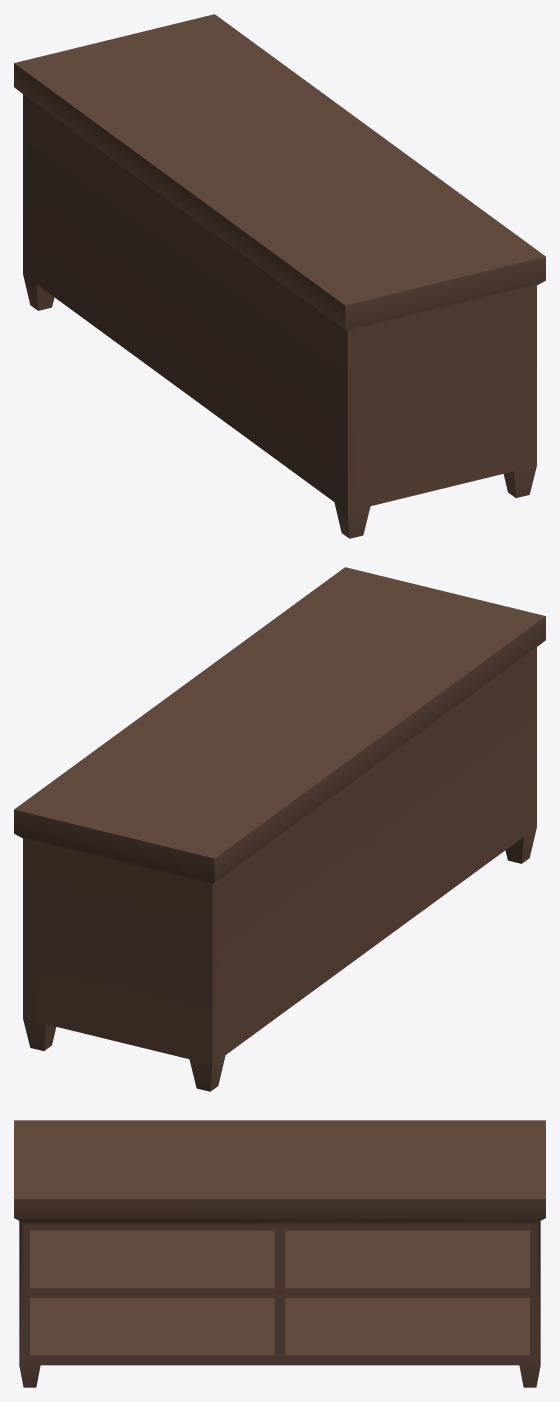
3 renders of one model, top to bottom at view 1: azimuth 30°, elevation 25°; view 2: azimuth 150°, elevation 25°; view 3: azimuth 270°, elevation 25°, orthographic. The views are drawn at different scales.
Parts seen in each view (by area): view 1: Shelf_2x1x1_0; view 2: Shelf_2x1x1_0; view 3: Shelf_2x1x1_0.
Boxes of the visible parts, x1,y1,x2,y2 form: Shelf_2x1x1_0: (14,14,545,538); Shelf_2x1x1_0: (14,567,545,1091); Shelf_2x1x1_0: (14,1120,545,1387).
Size of the model in its own units: 0.7 by 0.8 by 2.
